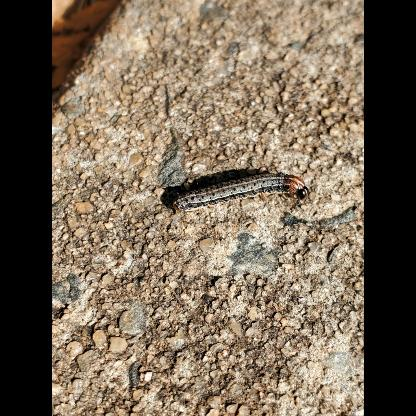Fall Armyworm Larvae: (170, 170, 312, 220)
